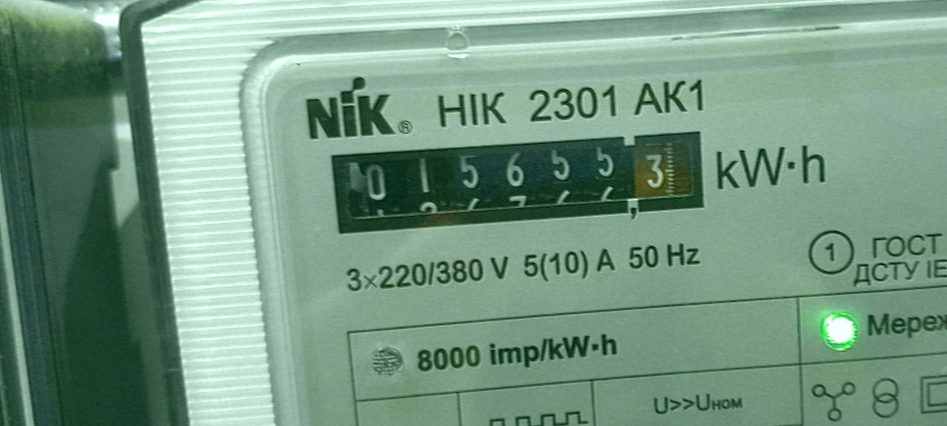0: (360, 159, 388, 201)
1: (412, 154, 433, 194)
3: (642, 151, 664, 188)
5: (454, 152, 481, 189), (547, 147, 572, 180), (594, 144, 614, 177)
6: (501, 150, 526, 187)
screen: (315, 110, 720, 250)
